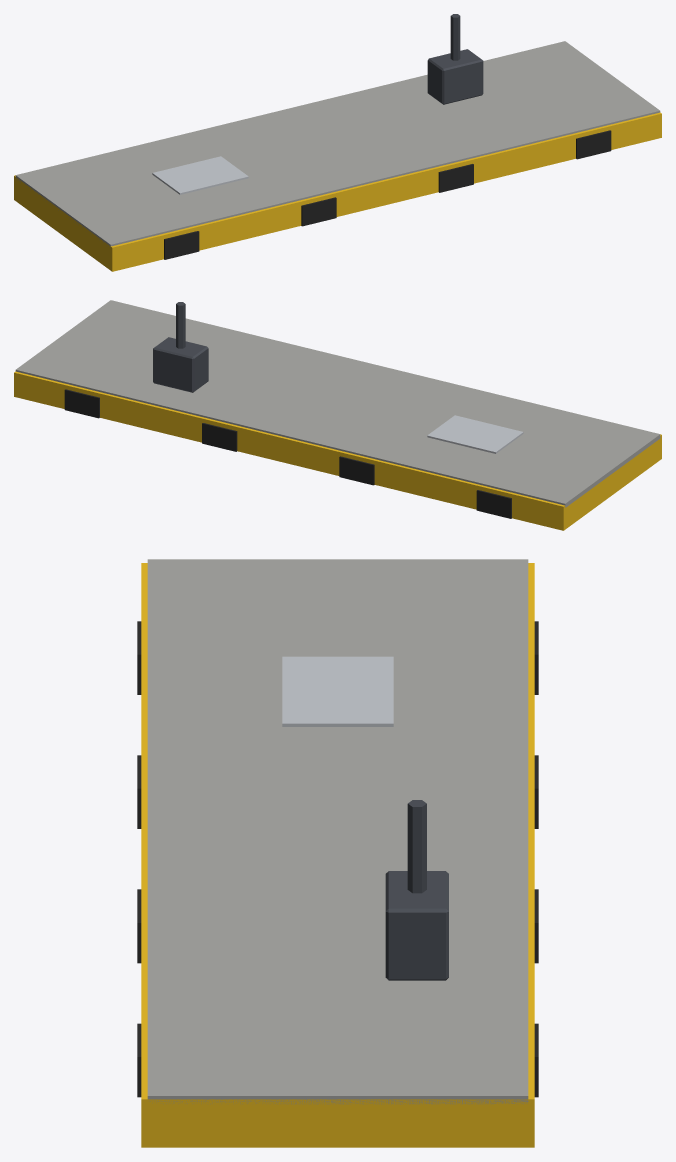
Rendered from Island_Curb_Straight_4m.glb.
3 renders of one model, top to bottom at view 1: azimuth 30°, elevation 25°; view 2: azimuth 150°, elevation 25°; view 3: azimuth 270°, elevation 25°, orthographic. The views are drawn at different scales.
Parts seen in each view (by area): view 1: Island_Curb_Straight_4m; view 2: Island_Curb_Straight_4m; view 3: Island_Curb_Straight_4m.
Part boxes in pixels (bbox=[...]): Island_Curb_Straight_4m: bbox=[14, 14, 661, 271]; Island_Curb_Straight_4m: bbox=[14, 300, 661, 530]; Island_Curb_Straight_4m: bbox=[137, 559, 538, 1147].
Bounding box in the file's own units: 4 × 0.73 × 1.26.
Materials: 1 (1 with a texture image).
